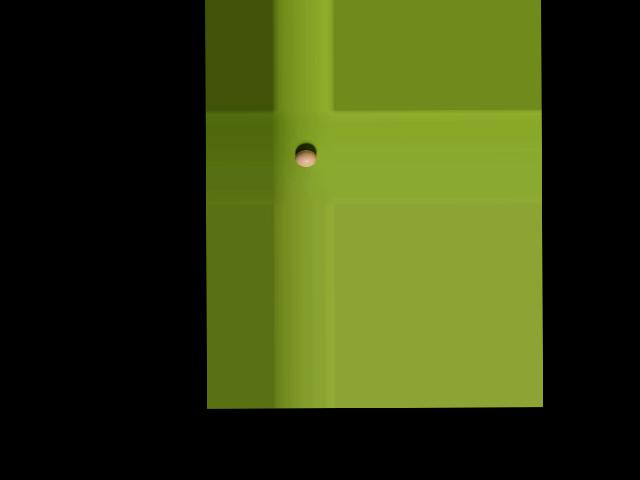egg: (294, 149, 316, 166)
